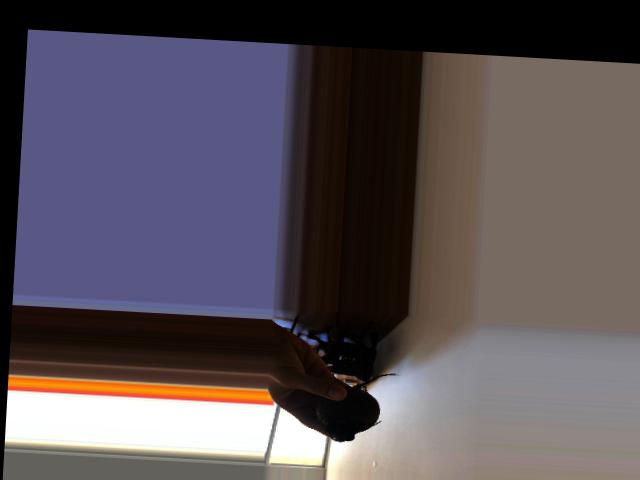beet: (315, 369, 399, 444)
